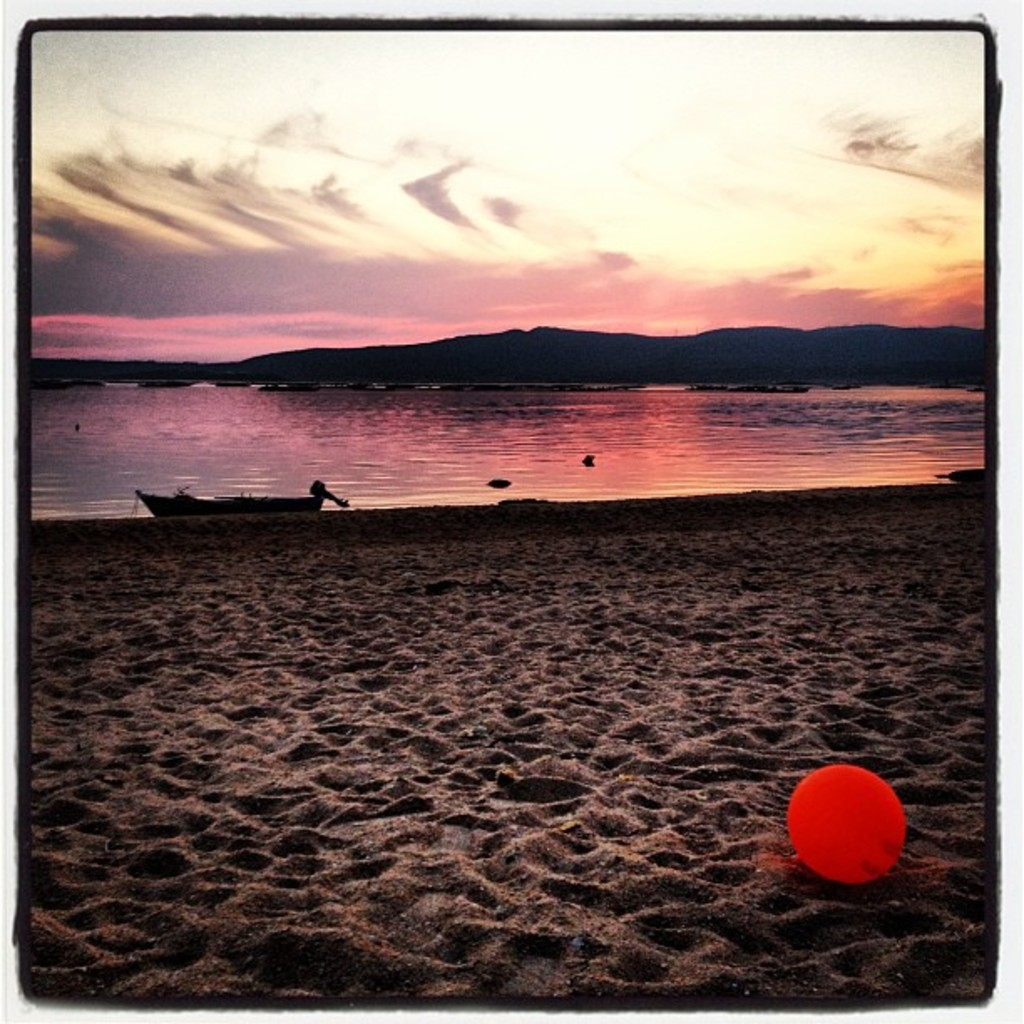Ball: (786, 765, 905, 887)
